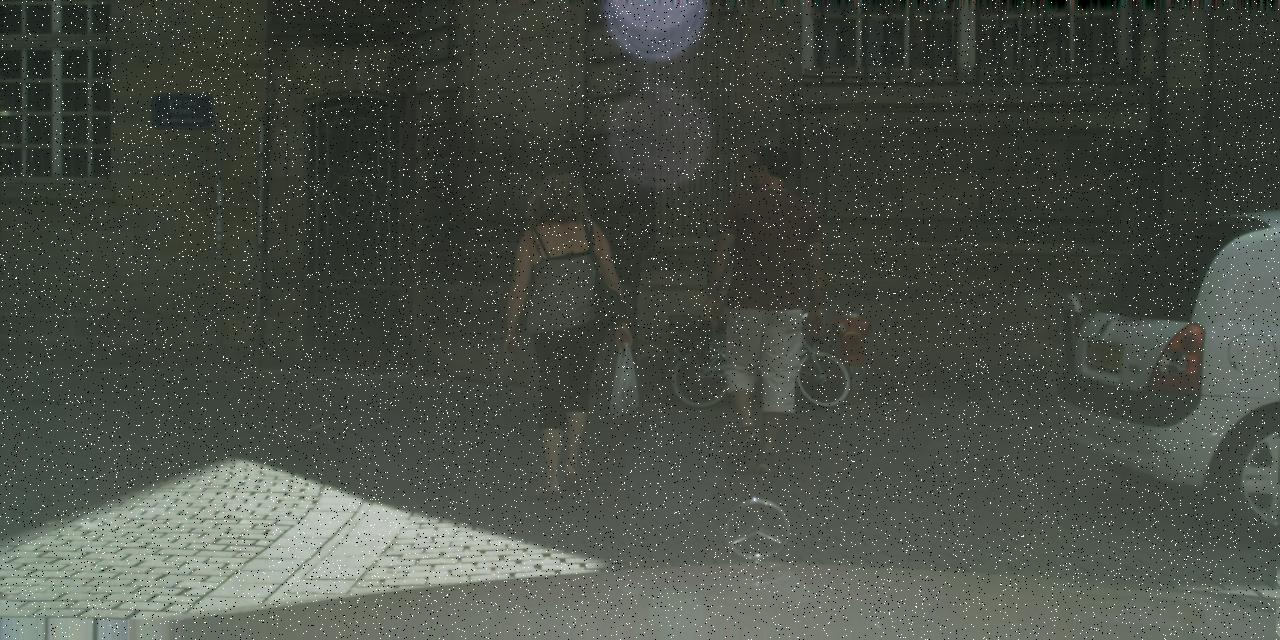ped: (497, 170, 629, 494), (696, 146, 828, 468)
